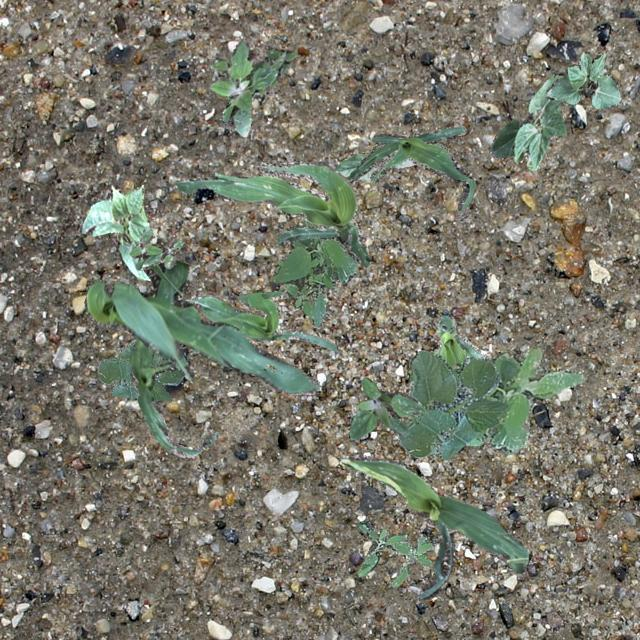crop: (84, 258, 318, 394), (340, 454, 528, 598), (176, 160, 370, 266), (348, 124, 474, 220), (398, 349, 508, 458), (130, 338, 218, 457), (190, 290, 334, 350), (78, 183, 156, 280), (488, 74, 564, 170), (96, 336, 182, 399), (544, 51, 620, 108), (432, 314, 492, 366), (332, 152, 414, 180)
weed: (428, 346, 586, 454), (272, 215, 358, 325), (208, 41, 296, 136), (356, 520, 436, 588), (348, 376, 428, 438), (128, 224, 184, 268), (466, 430, 526, 450)
